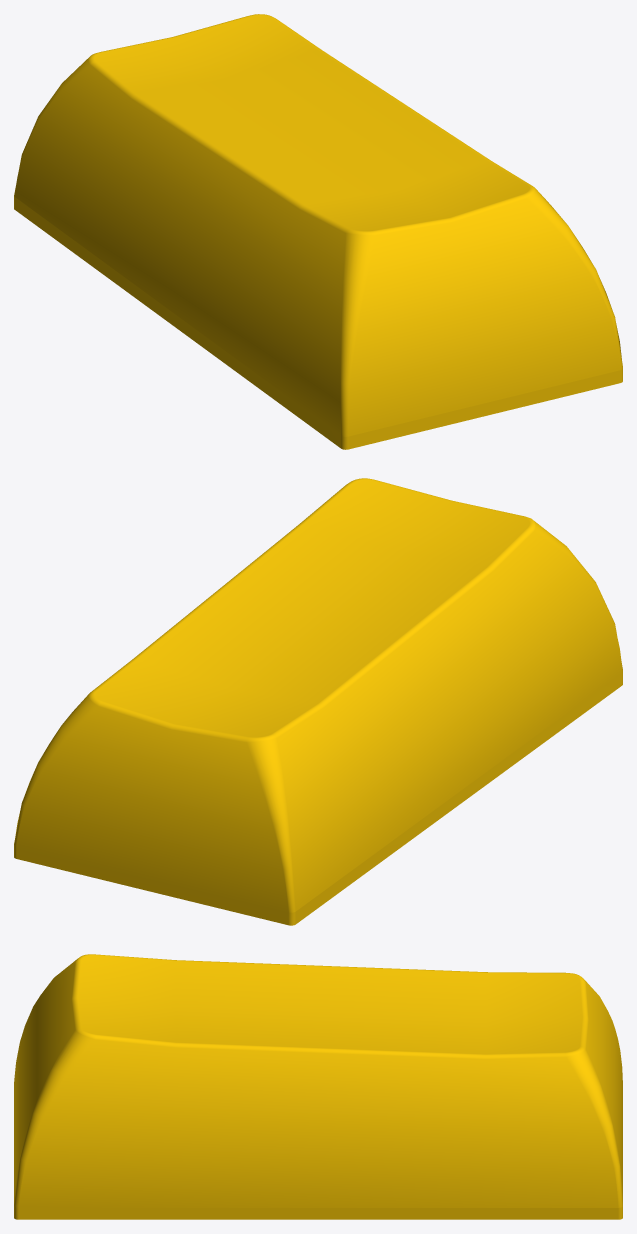
The model's file is KAT_2u_r4_vertical.glb.
The picture shows the model from 3 angles, top to bottom: view 1: azimuth 30°, elevation 25°; view 2: azimuth 150°, elevation 25°; view 3: azimuth 270°, elevation 25°; orthographic projection. The views are drawn at different scales.
Parts seen in each view (by area): view 1: Object.105; view 2: Object.105; view 3: Object.105.
Boxes of the visible parts, <box> form: Object.105: <box>14,14,622,449</box>; Object.105: <box>14,478,622,925</box>; Object.105: <box>14,954,622,1219</box>.
Size of the model in its own units: 18.2 by 10.98 by 37.2.
